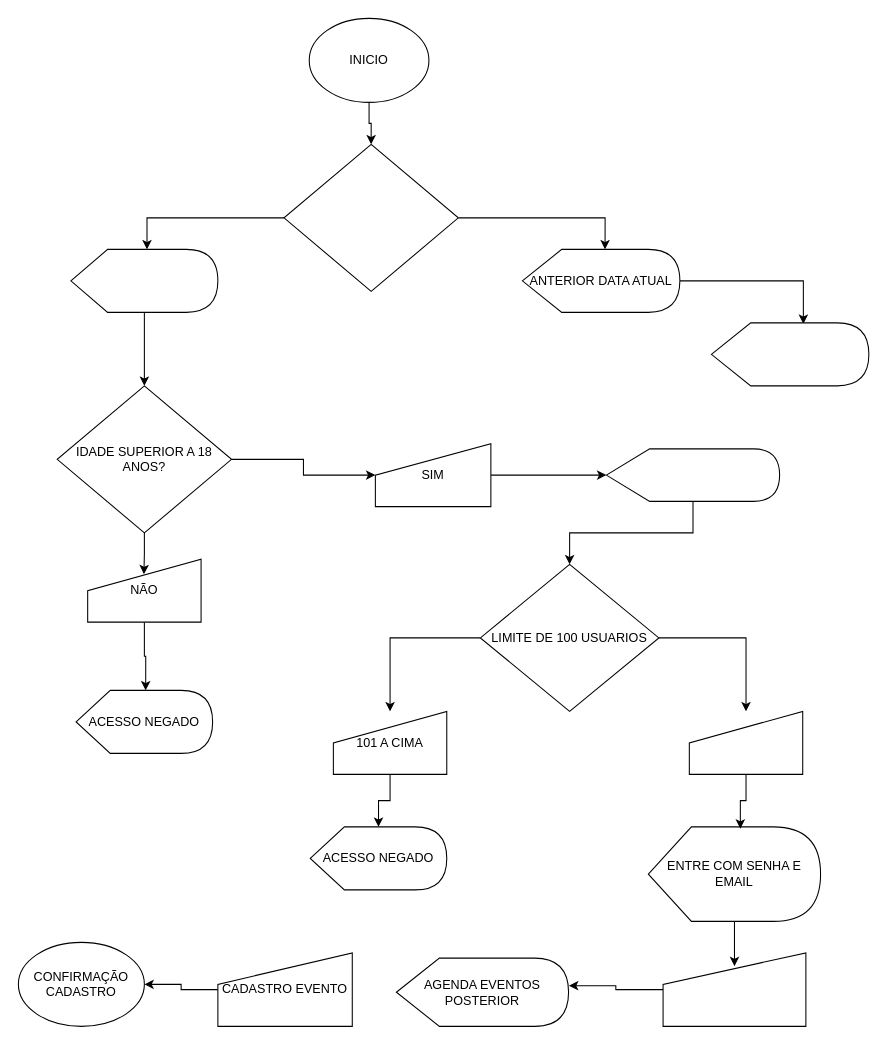
Image size: 887x1045. Some labels were removed from this diagram. Each missing label, with the box of its shape:
0 A 100: (688, 710, 803, 774)
ACESSO PERMITIDO: (605, 448, 780, 501)
AGENDA ANTERIOR: (710, 322, 869, 386)
AGENDA EVENTOS: (283, 143, 458, 291)
POSTERIOR DATA ATUAL: (70, 248, 218, 312)
SENHA E EMAIL: (662, 952, 806, 1026)
